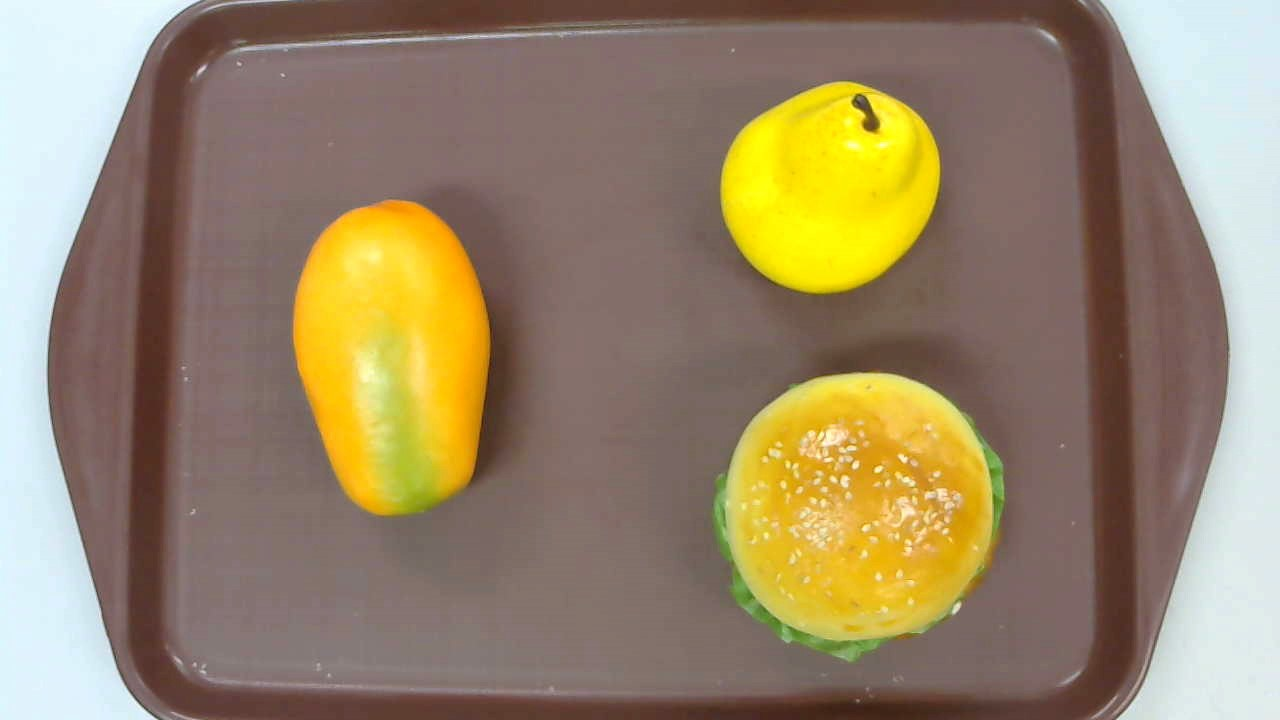hamburger: (711, 370, 1006, 664)
papya: (293, 200, 491, 516)
yellow pear: (720, 81, 942, 294)
